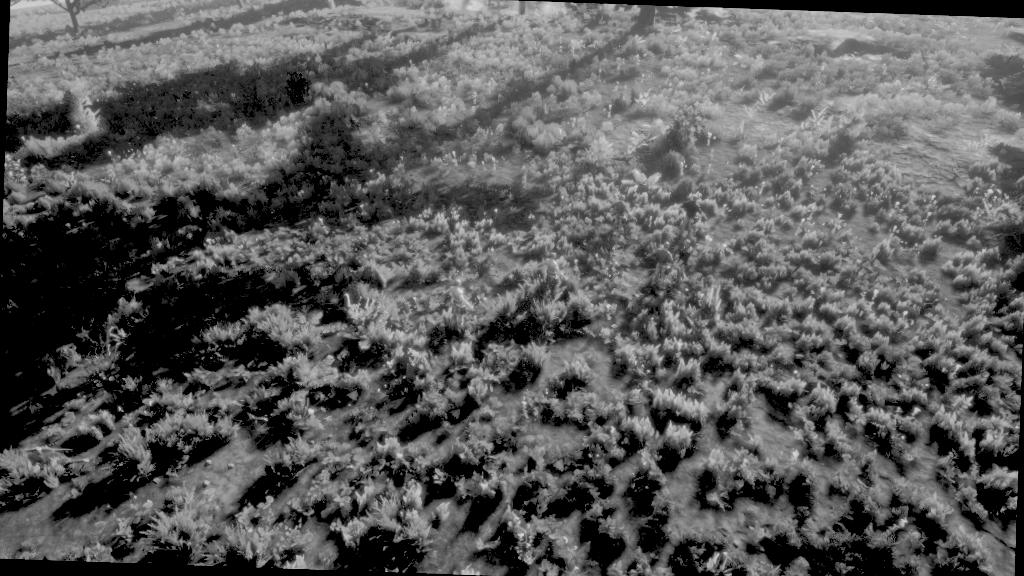Fire: (513, 0, 570, 20), (430, 0, 492, 17)
human: (642, 178, 716, 303), (522, 240, 578, 304), (435, 258, 480, 334), (592, 182, 640, 242)
